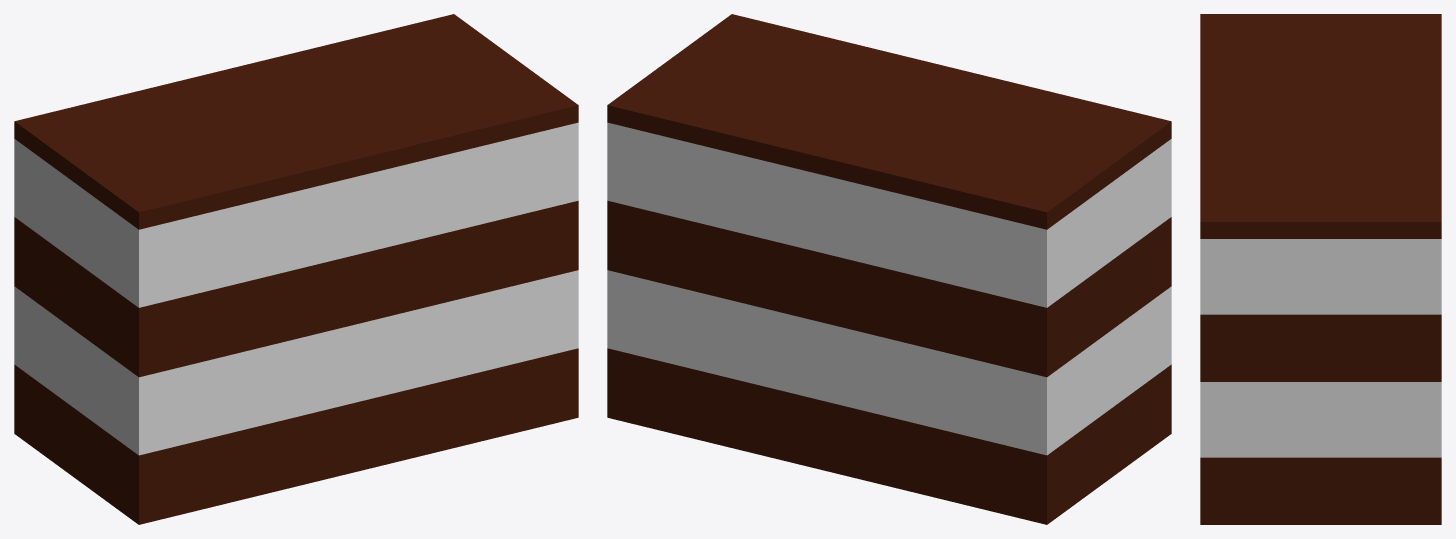
The model's file is tiramisu.obj.
3 renders of one model, left to right at view 1: azimuth 30°, elevation 25°; view 2: azimuth 150°, elevation 25°; view 3: azimuth 270°, elevation 25°, orthographic. The views are drawn at different scales.
Visible parts, largest first — view 1: tiramisu; view 2: tiramisu; view 3: tiramisu.
Part boxes in pixels (box(x1,y1,x2,y2)): tiramisu: box(14, 14, 578, 524); tiramisu: box(607, 14, 1171, 524); tiramisu: box(1200, 14, 1441, 524).
Size of the model in its own units: 53 by 36 by 26.
1 material, 1 textured.
